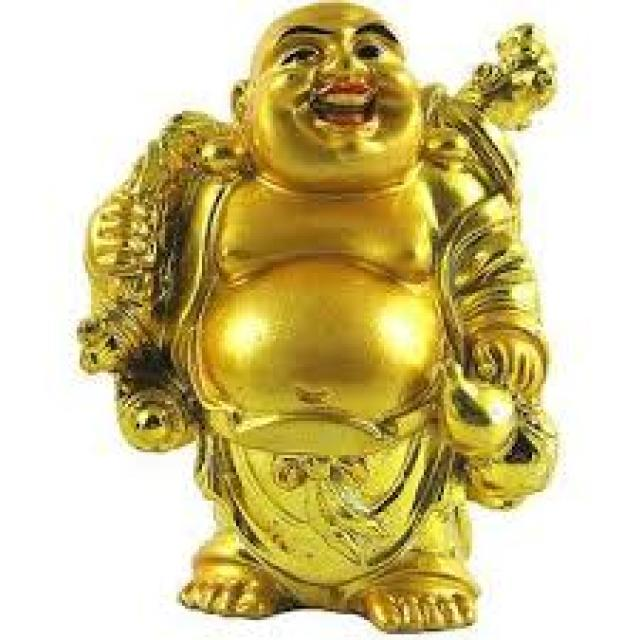Smiling Buddha: (121, 0, 523, 568)
